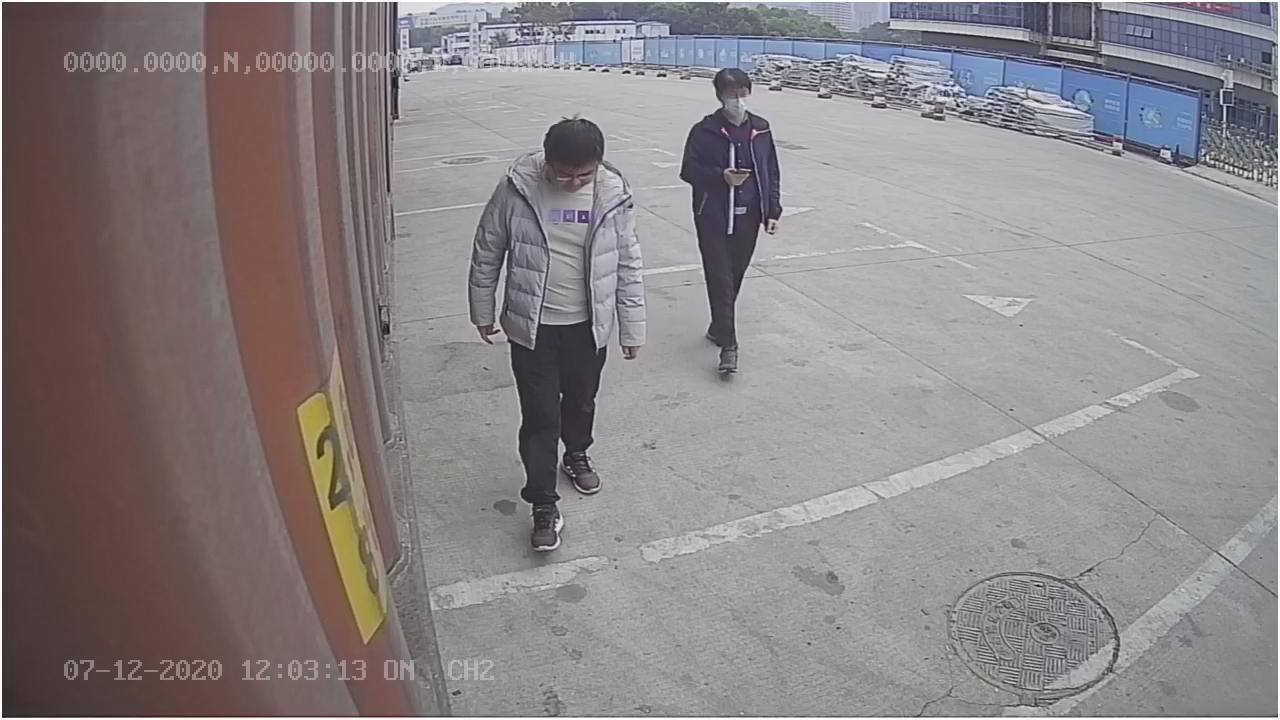person: (463, 102, 647, 556), (679, 56, 786, 379)
